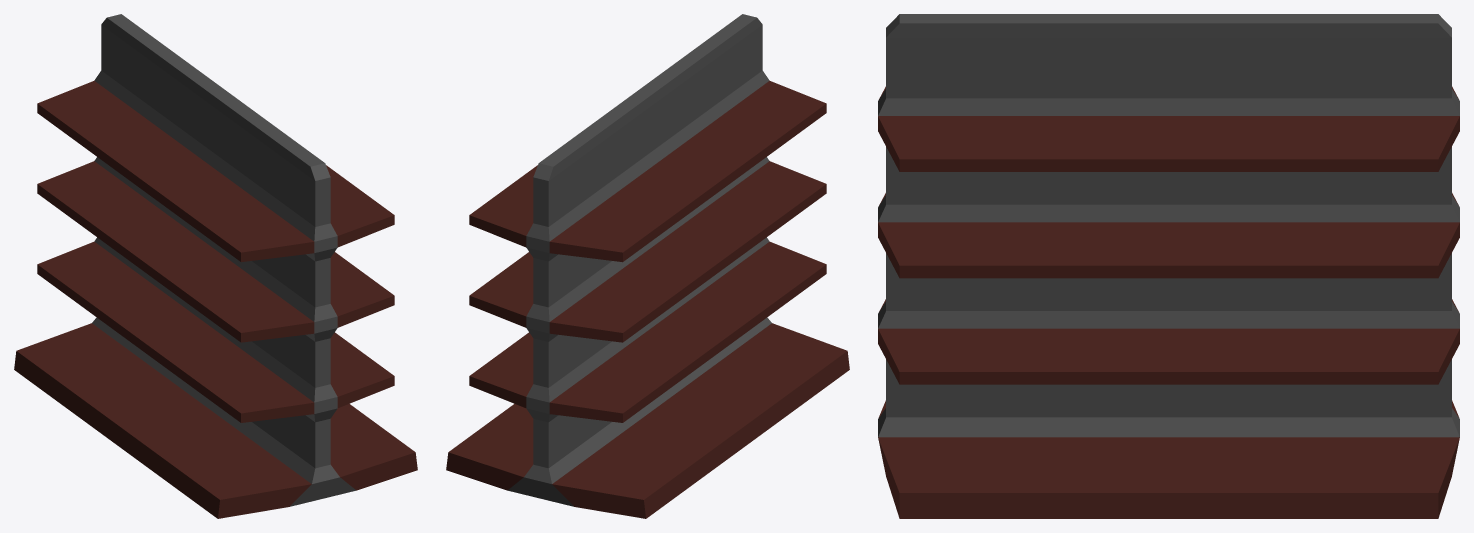
The model's file is Shelf_Test.fbx.
3 renders of one model, left to right at view 1: azimuth 30°, elevation 25°; view 2: azimuth 150°, elevation 25°; view 3: azimuth 270°, elevation 25°, orthographic. The views are drawn at different scales.
Parts seen in each view (by area): view 1: Shelf; view 2: Shelf; view 3: Shelf.
Part boxes in pixels (left/top/right/bottom): Shelf: left=14, top=14, right=417, bottom=518; Shelf: left=446, top=14, right=849, bottom=518; Shelf: left=878, top=14, right=1459, bottom=518.
Size of the model in its own units: 189 by 298 by 360.
